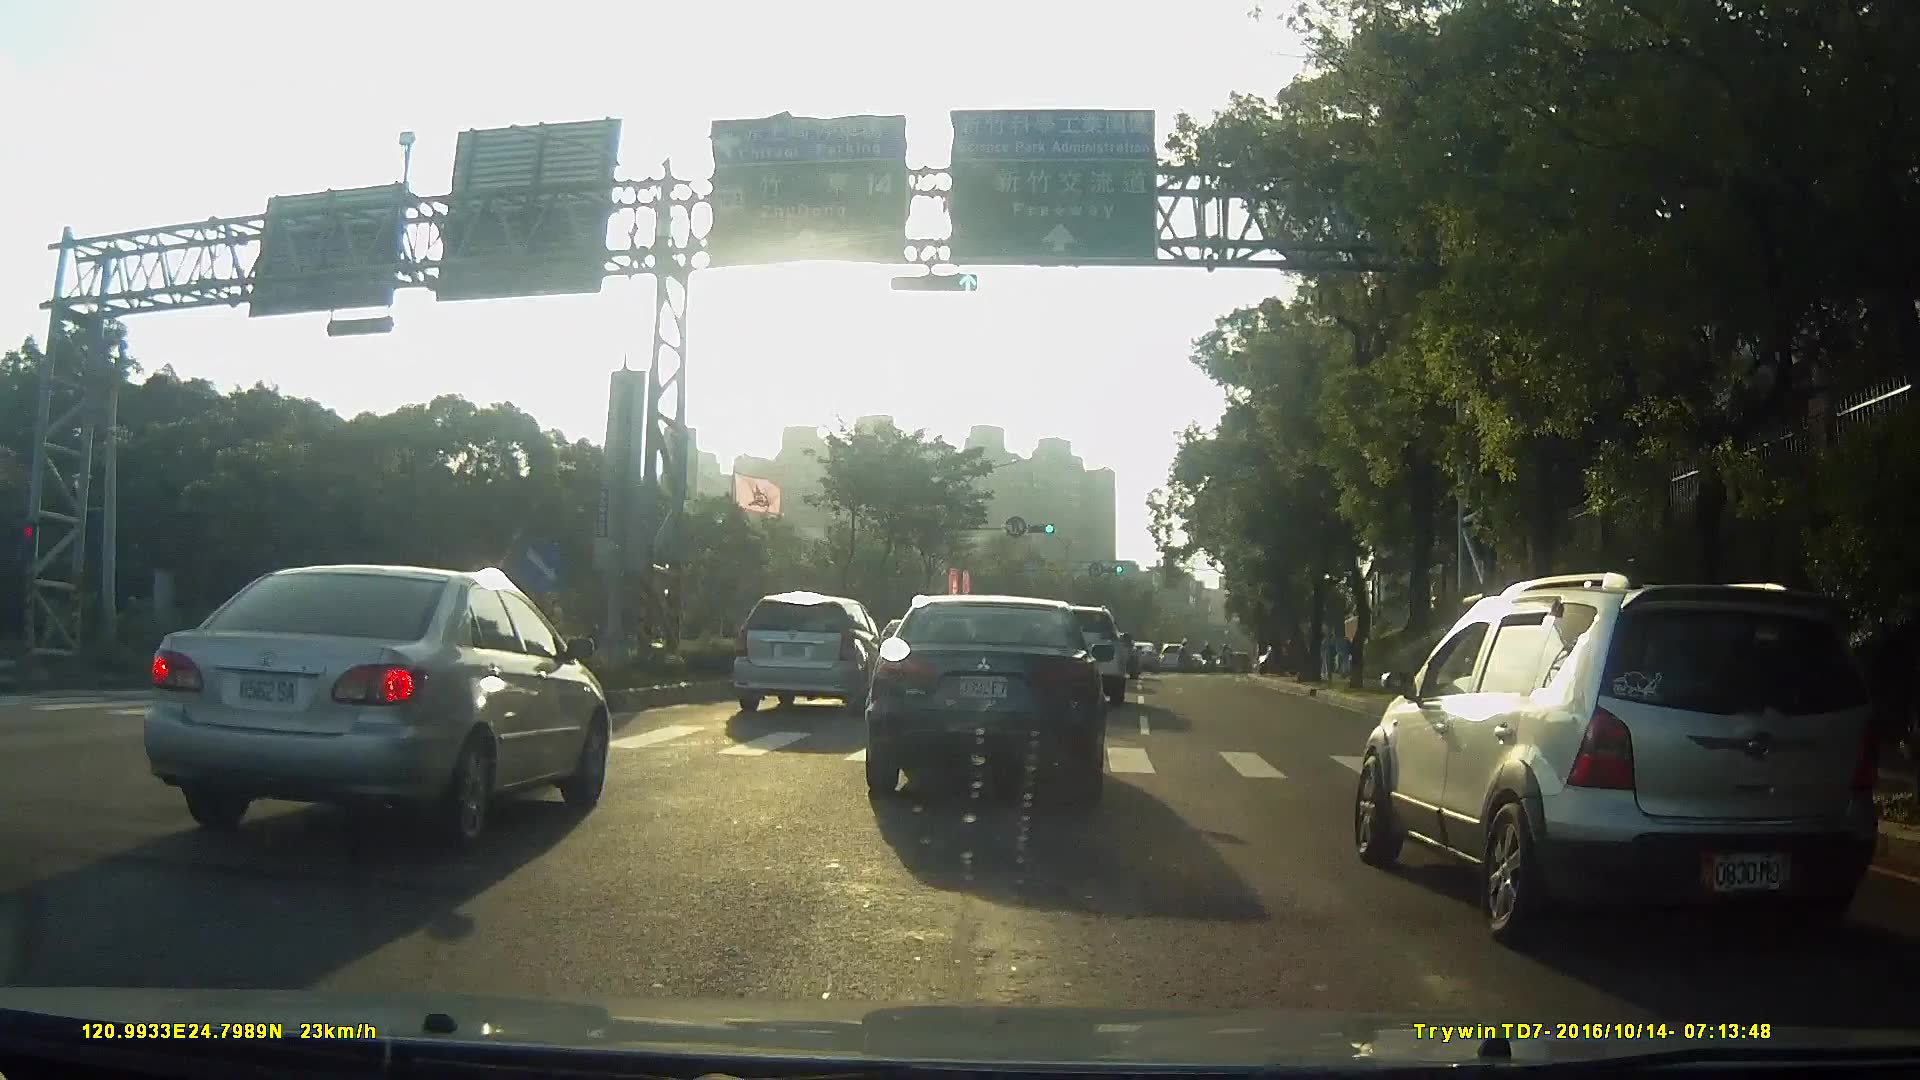vehicle: (1352, 570, 1871, 964), (119, 558, 626, 862), (856, 595, 1133, 812), (723, 593, 884, 721), (1149, 644, 1182, 674), (1120, 640, 1153, 670)
